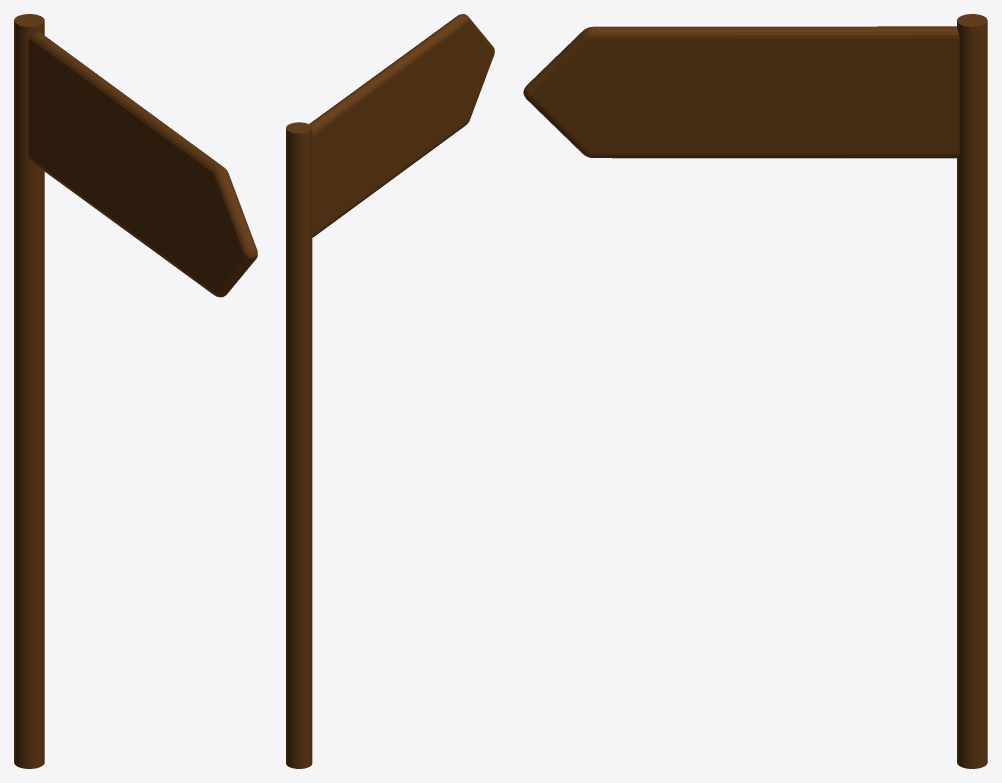
The model's file is Signpost.fbx.
3 renders of one model, left to right at view 1: azimuth 30°, elevation 25°; view 2: azimuth 150°, elevation 25°; view 3: azimuth 270°, elevation 25°, orthographic. The views are drawn at different scales.
Visible parts, largest first — view 1: Cube; view 2: Cube; view 3: Cube.
Boxes of the visible parts, <box> form: Cube: <box>14,14,257,768</box>; Cube: <box>286,14,494,768</box>; Cube: <box>523,14,987,768</box>.
Bounding box in the file's own units: 21.8 × 584 × 331.
